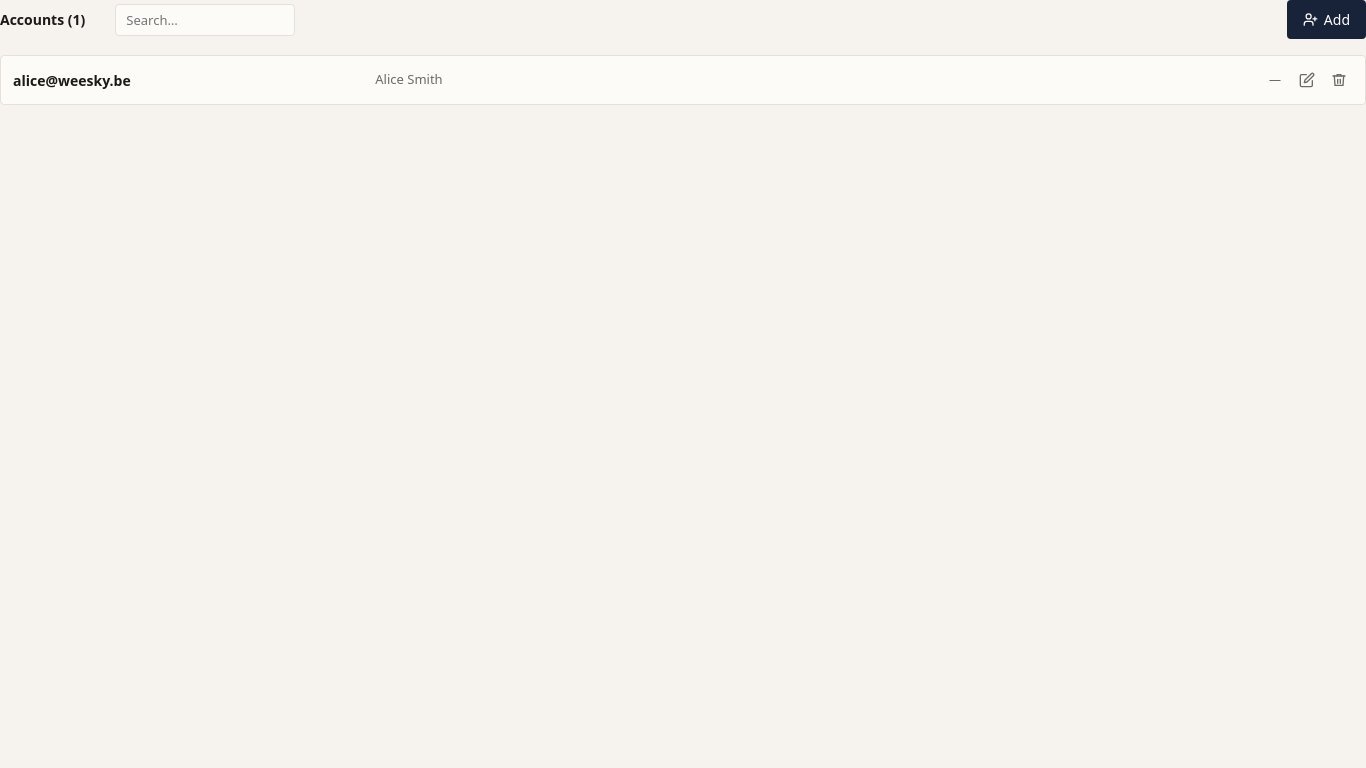
Scenario: AccountsTab › ✕ closes the delete modal without deleting
The width and height of the screenshot is (1366, 768).
Check: the text "alice@weesky.be" is shown, box [13,70,131,90]
Click the button titled "Delete".
click(1339, 80)  # box [1325,66,1353,94]
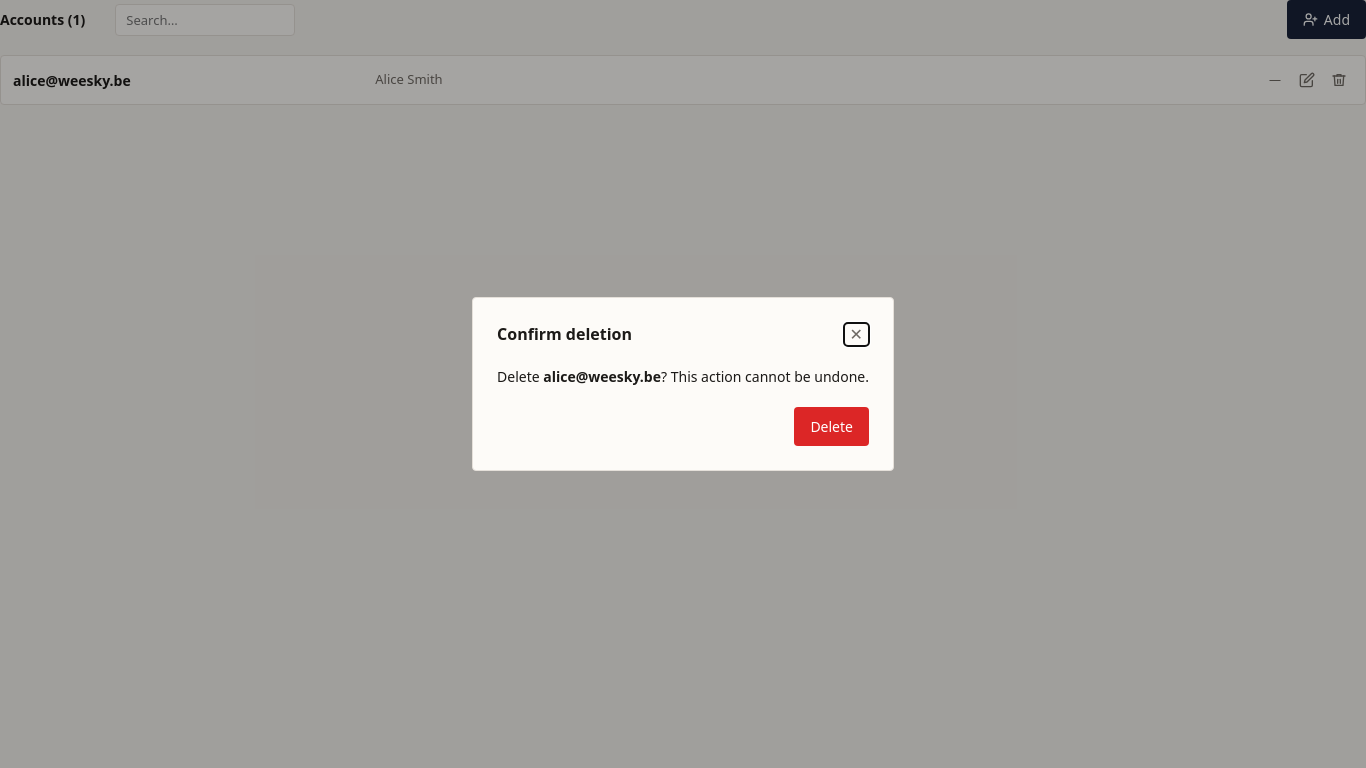
Click the button named "Close".
click(856, 334)  # box [844,322,869,346]
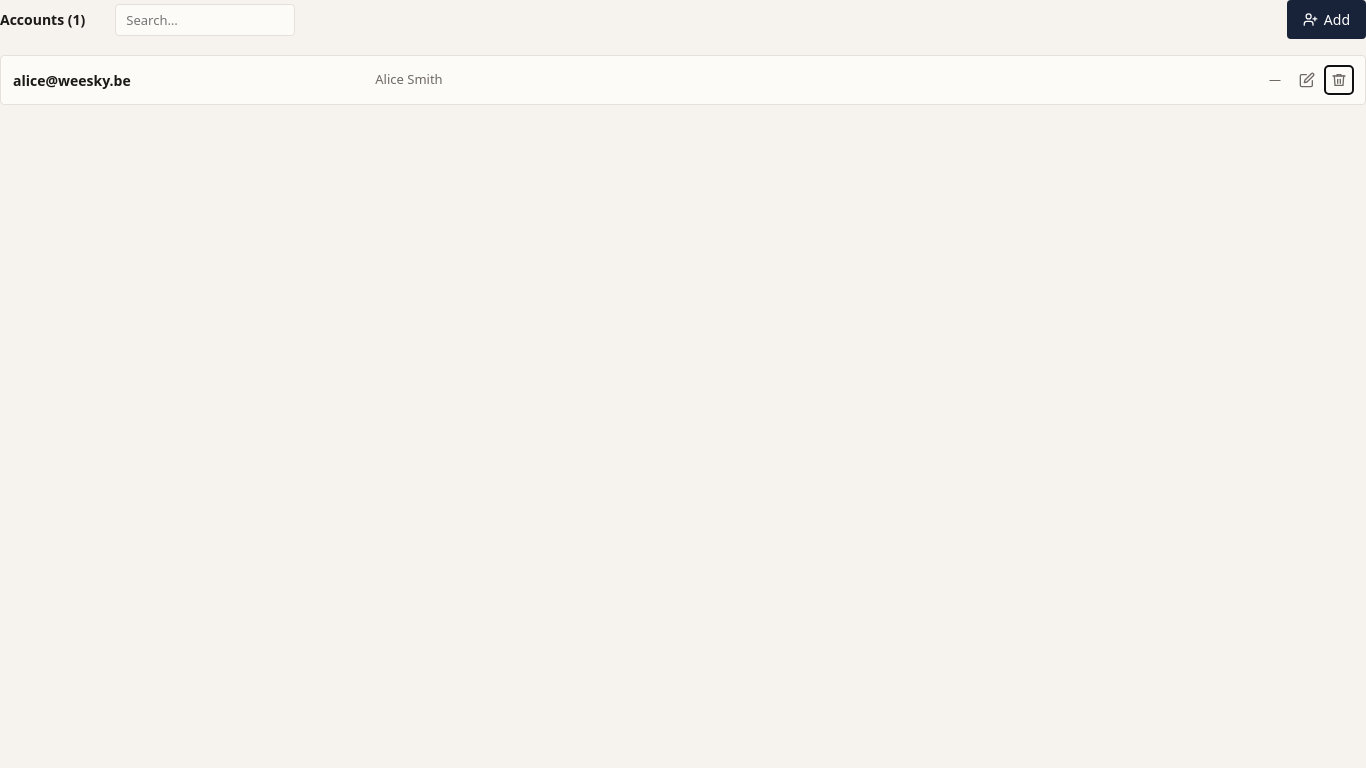
Check: the text "Confirm deletion" is gone
